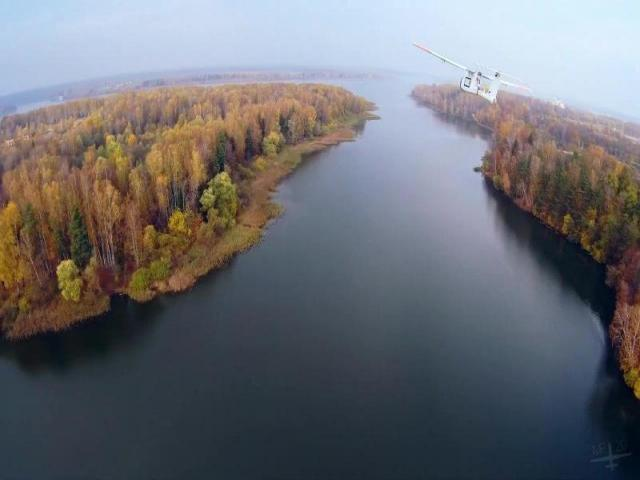hedef: (408, 29, 539, 121)
